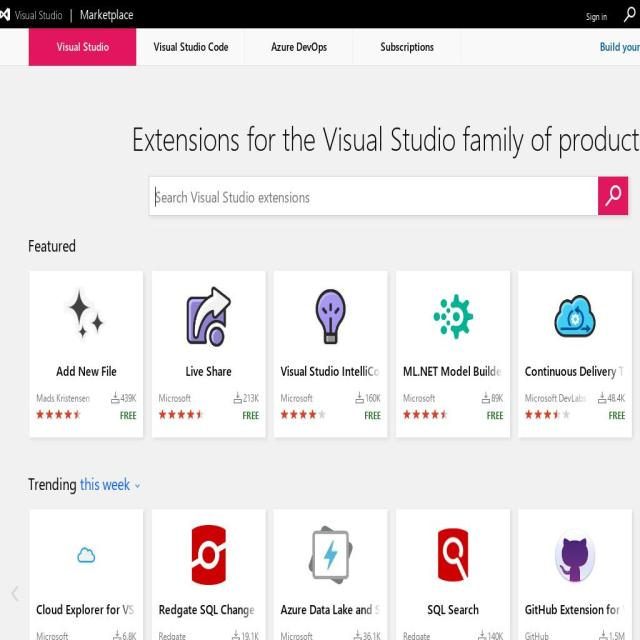button: (151, 271, 266, 437), (29, 271, 143, 437), (274, 271, 388, 437), (396, 271, 510, 437), (518, 271, 632, 437), (151, 509, 266, 640), (29, 509, 143, 640), (274, 509, 388, 640), (396, 509, 510, 640), (518, 509, 632, 640), (28, 28, 137, 66), (137, 28, 245, 66), (245, 28, 353, 66), (353, 28, 461, 66), (0, 0, 133, 28), (80, 471, 142, 497), (586, 8, 608, 24)
field: (155, 184, 567, 209)
heading: (132, 115, 640, 159), (28, 232, 76, 258), (28, 471, 77, 496), (80, 472, 130, 494)
image: (430, 286, 476, 346), (552, 286, 598, 346), (552, 525, 598, 585), (186, 286, 231, 346), (308, 286, 353, 346), (186, 525, 231, 585), (308, 525, 353, 585), (64, 286, 108, 346), (433, 528, 473, 582), (619, 2, 640, 28), (76, 542, 96, 568), (239, 600, 259, 618), (362, 600, 381, 618), (606, 600, 625, 618), (118, 600, 136, 618), (362, 362, 381, 379), (484, 362, 503, 379), (606, 362, 625, 379), (449, 391, 469, 404), (83, 391, 102, 404), (205, 391, 224, 404), (328, 391, 347, 404), (572, 391, 590, 404), (449, 629, 469, 640), (83, 629, 102, 640), (205, 629, 224, 640), (328, 629, 347, 640), (572, 629, 590, 640), (606, 189, 620, 203), (502, 408, 510, 425), (258, 408, 265, 425), (136, 408, 142, 425), (381, 408, 387, 425), (625, 408, 631, 425), (36, 409, 44, 419), (55, 409, 63, 419), (64, 409, 72, 419), (158, 409, 166, 419), (177, 409, 185, 419), (290, 409, 298, 419), (299, 409, 307, 419), (318, 409, 326, 419), (402, 409, 410, 419), (412, 409, 420, 419), (440, 409, 448, 419), (525, 409, 533, 419), (534, 409, 542, 419), (553, 409, 561, 419), (562, 409, 570, 419), (46, 409, 53, 419), (74, 409, 81, 419), (168, 409, 175, 419), (187, 409, 194, 419), (196, 409, 203, 419), (281, 409, 288, 419), (309, 409, 316, 419), (422, 409, 429, 419), (431, 409, 438, 419), (544, 409, 551, 419)
link: (600, 38, 640, 54)
text: (281, 600, 478, 618), (255, 28, 343, 65), (363, 28, 451, 65), (39, 28, 126, 65), (147, 28, 234, 65), (36, 600, 196, 618), (158, 600, 312, 618), (402, 362, 550, 379), (525, 600, 640, 618), (525, 362, 640, 379), (280, 362, 392, 379), (56, 362, 116, 379), (427, 600, 479, 618), (70, 7, 133, 21), (185, 362, 232, 379), (525, 391, 586, 404), (12, 8, 68, 22), (36, 391, 90, 404), (158, 391, 191, 404), (280, 391, 312, 404), (403, 391, 435, 404), (36, 629, 68, 640), (280, 629, 312, 640), (158, 629, 186, 640), (402, 629, 430, 640), (242, 408, 259, 424), (486, 408, 503, 424), (525, 629, 549, 640), (120, 408, 136, 424), (364, 408, 380, 424), (609, 408, 625, 424), (607, 391, 625, 404), (242, 391, 258, 404), (365, 391, 381, 404), (240, 629, 258, 640), (363, 629, 381, 640), (121, 391, 136, 404), (487, 629, 503, 640), (609, 629, 625, 640), (491, 391, 503, 404), (122, 629, 136, 640)
